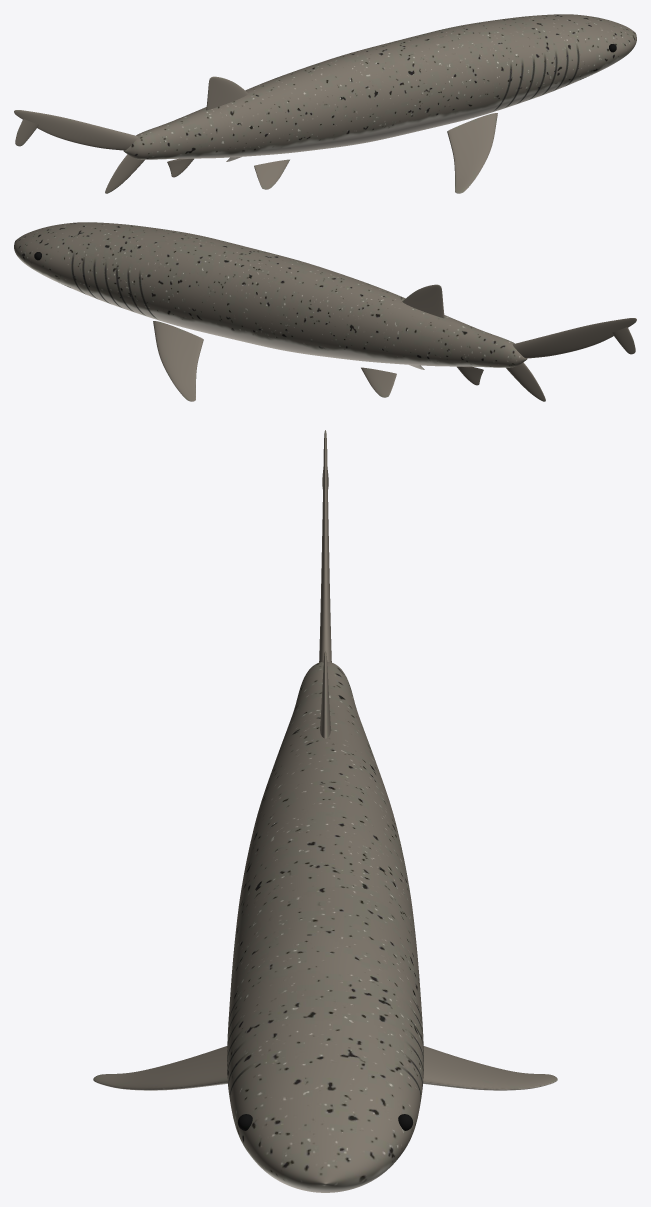
The model's file is sevengill.glb.
The picture shows the model from 3 angles, top to bottom: view 1: azimuth 30°, elevation 25°; view 2: azimuth 150°, elevation 25°; view 3: azimuth 270°, elevation 25°; orthographic projection. The views are drawn at different scales.
Parts seen in each view (by area): view 1: skin; view 2: skin; view 3: skin.
Boxes of the visible parts, <box> form: skin: <box>14,14,636,193</box>; skin: <box>14,222,636,401</box>; skin: <box>93,430,557,1192</box>.
Bounding box in the file's own units: 4.03 × 0.8395 × 1.3.
2 materials, 1 textured.
